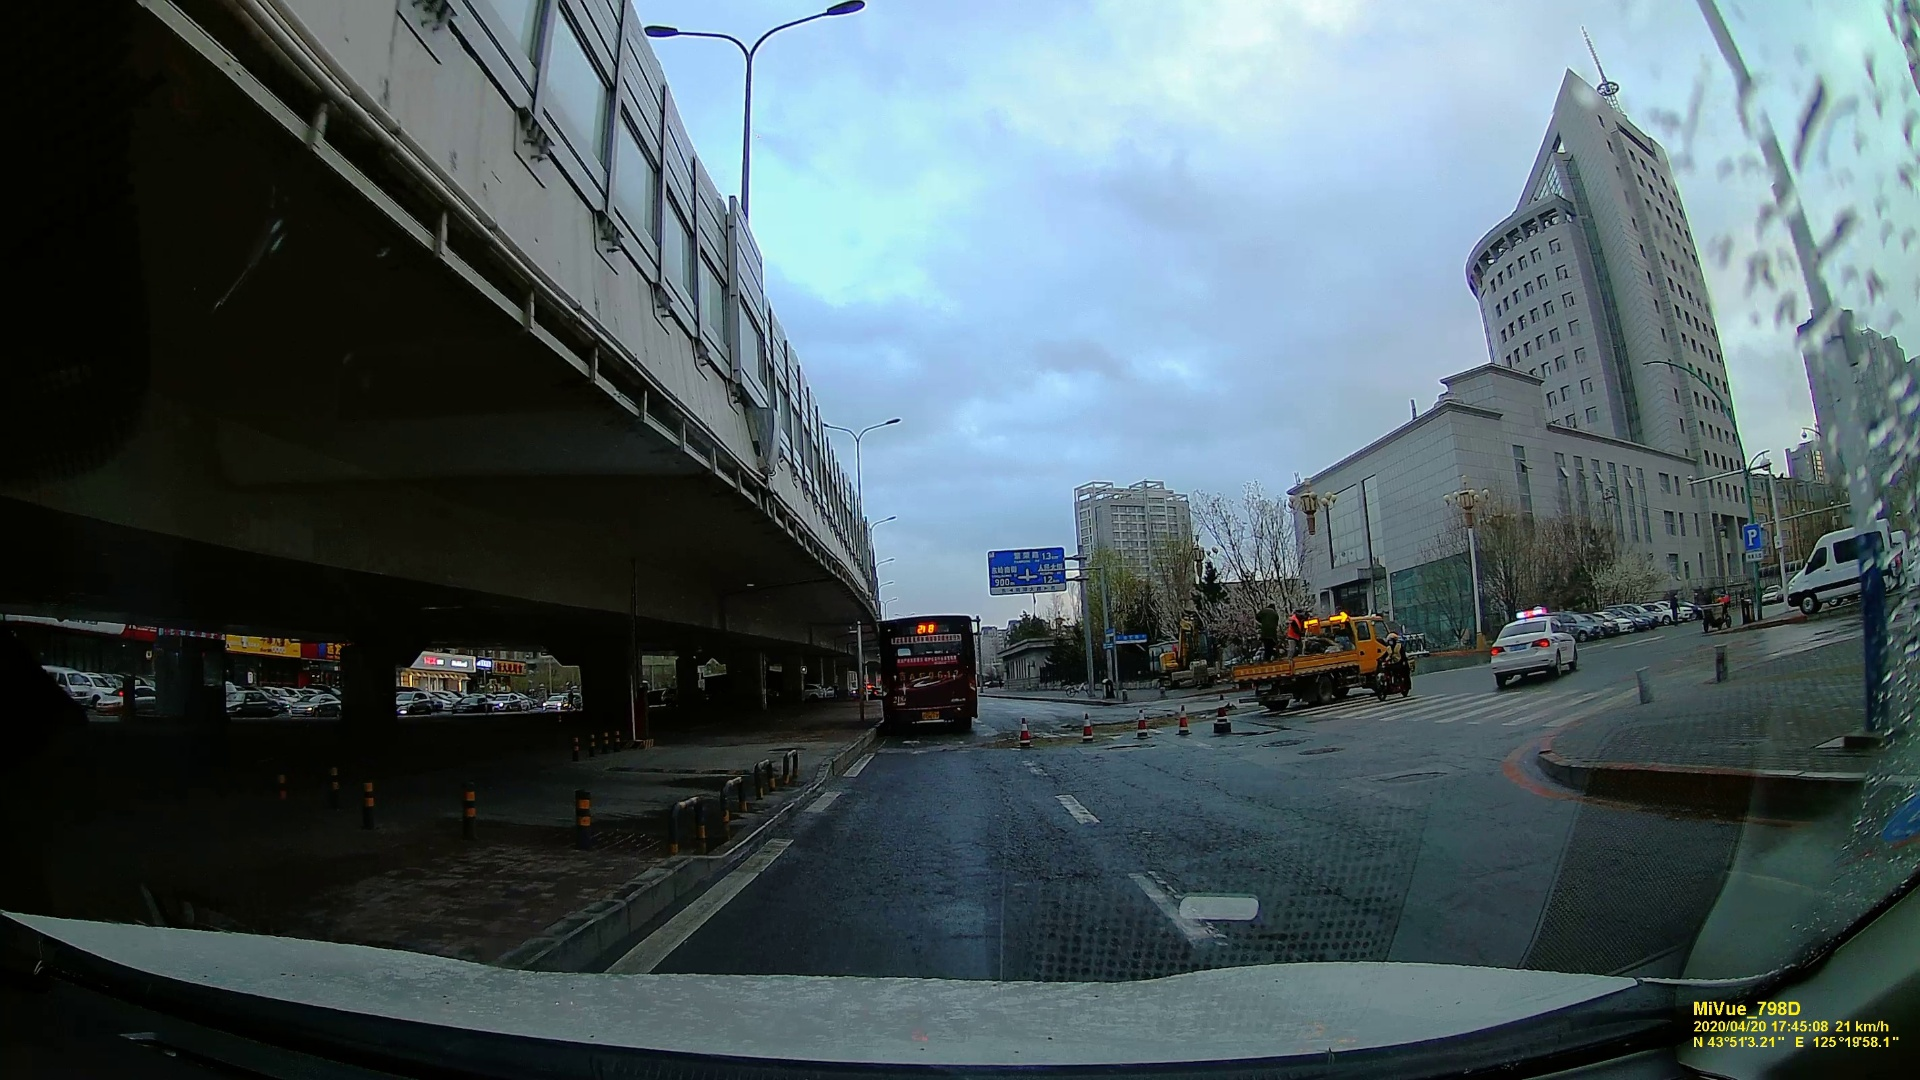bus: (874, 611, 984, 733)
minibus: (1782, 521, 1898, 615)
traffic_sign: (986, 550, 1062, 591)
truck: (1254, 612, 1425, 702)
vehicle: (1494, 616, 1582, 682)
